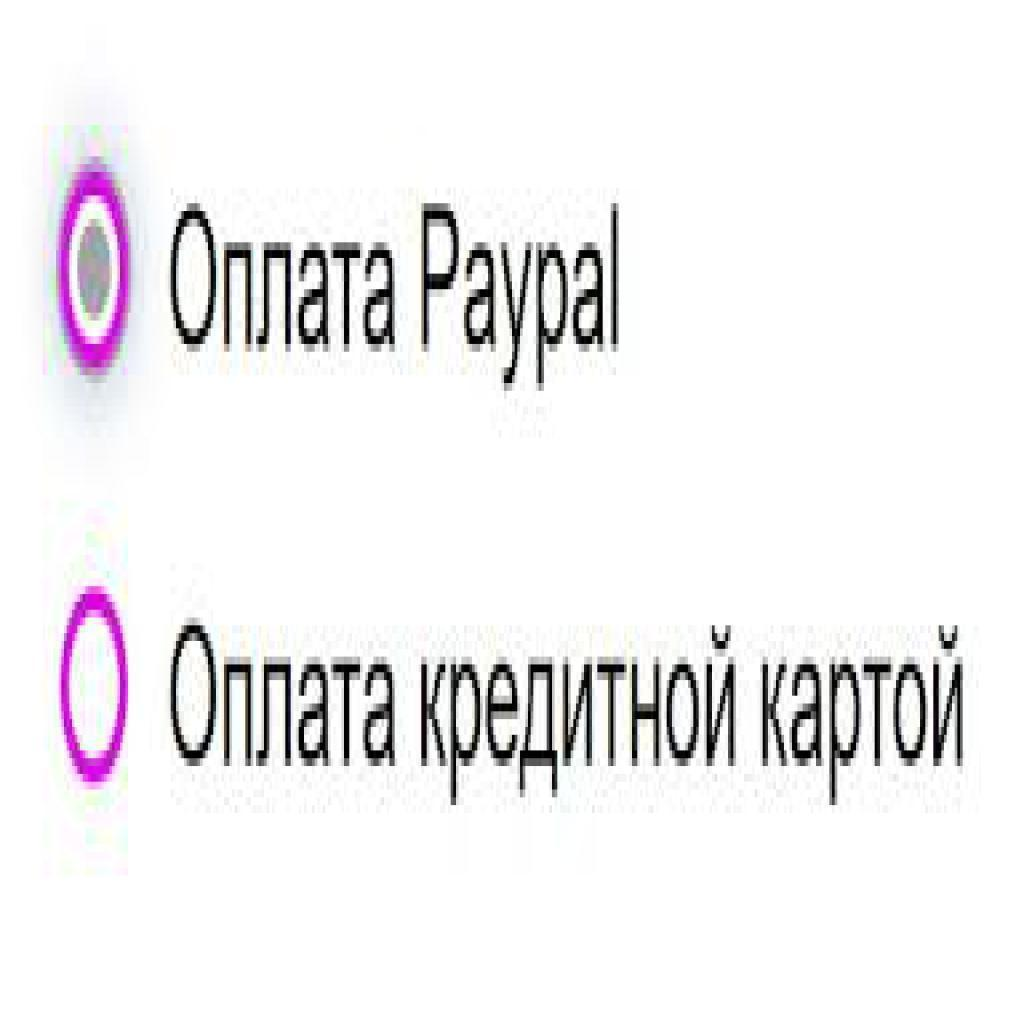label: (166, 611, 974, 795), (164, 194, 630, 370)
radio: (53, 161, 131, 384), (54, 587, 137, 781)
